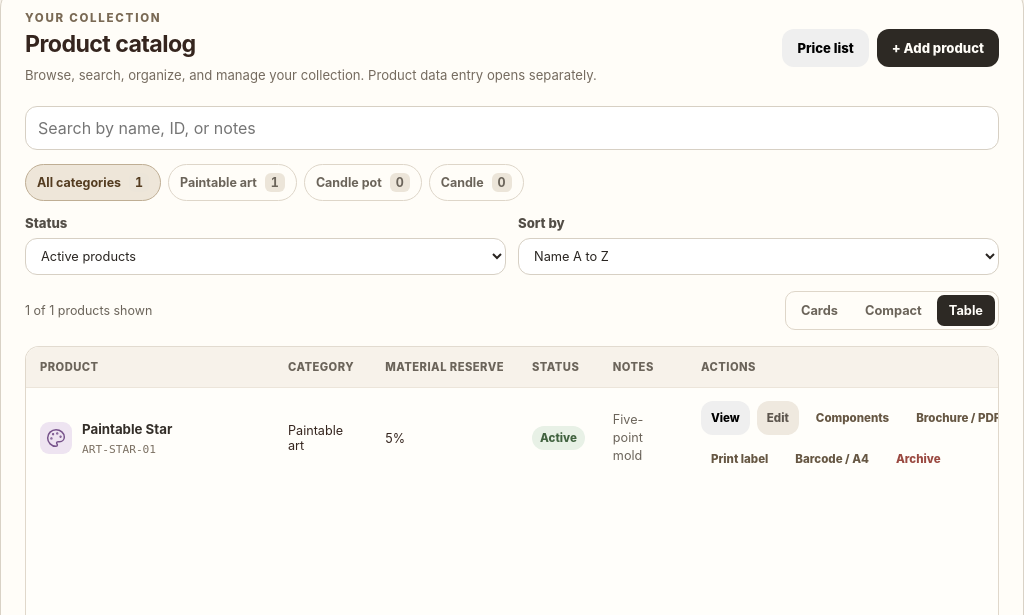
Test: Product catalog / editor separation › opens in Table view by default and keeps Cards and Compact selectable
Expected: the row that starts with "Paintable Star" is shown, [26,387,999,489]
What coordinates should you click on to do the following:
click the button "Cards"
I would click on:
 (819, 310)
Its box is [789,295,850,326].
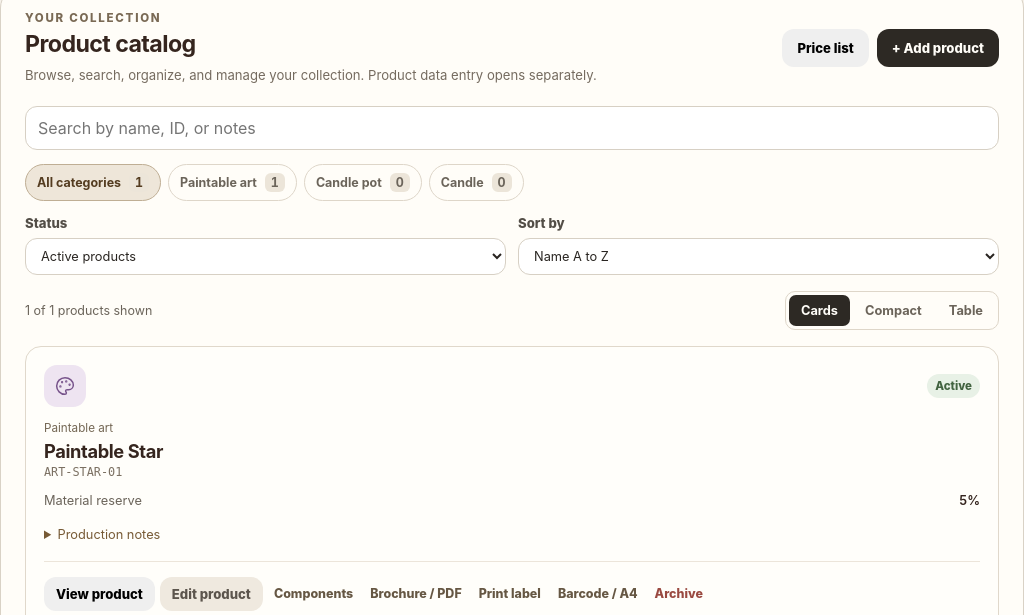
Result: the button "Cards" is pressed at [789,295,850,326]
What coordinates should you click on to do the following:
click the button "Compact"
I would click on:
 (893, 310)
Its box is [853,295,934,326].
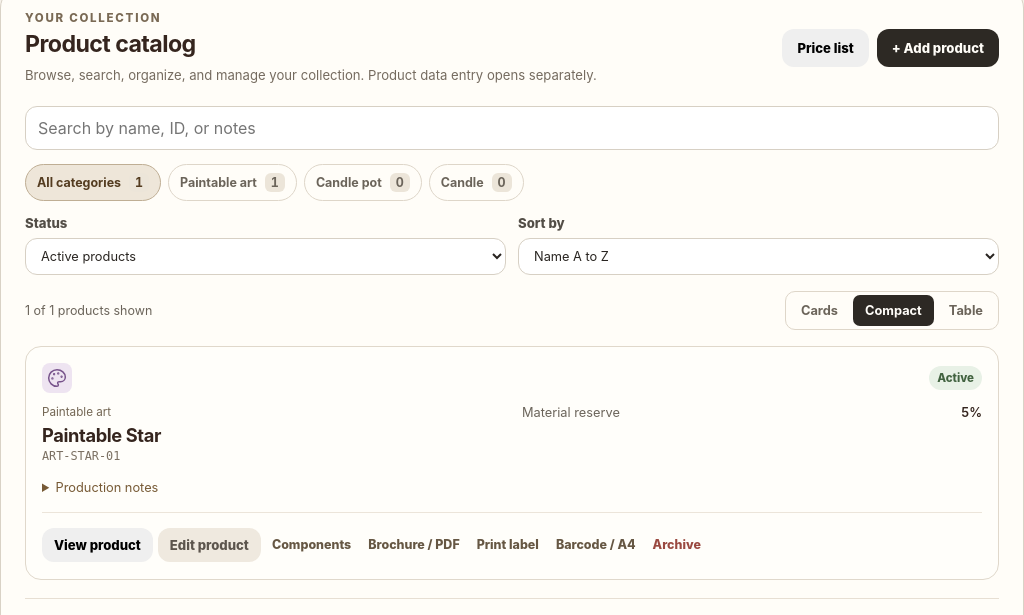
Result: the element with class "is-compact" is shown at [25,346,999,580]
What coordinates should you click on to do the following:
click the button "Table"
I would click on:
 (966, 310)
Its box is [937,295,995,326].
(page scrolled)
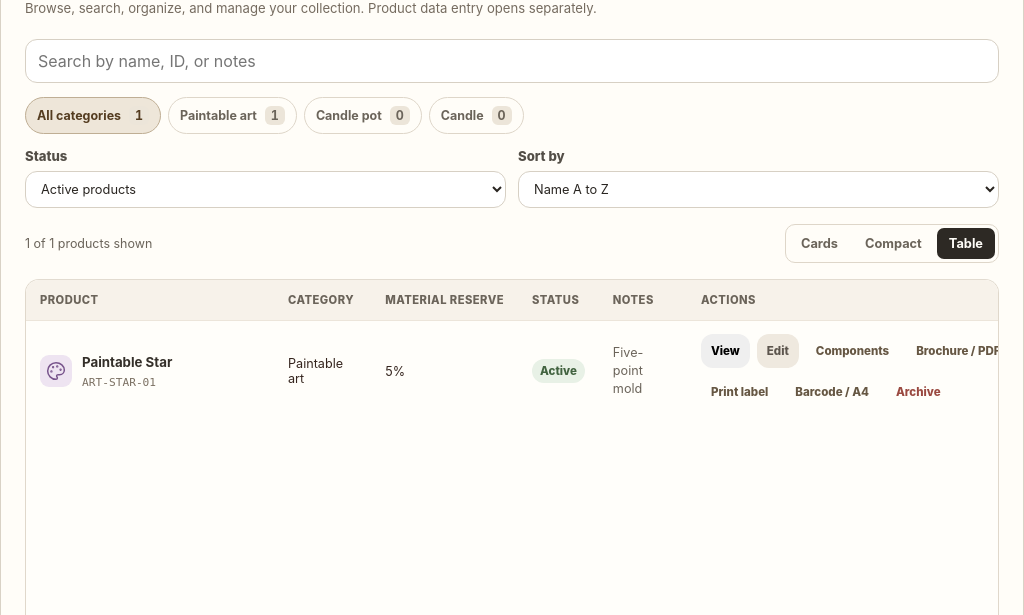
Result: the row that starts with "Paintable Star" is shown at [26,320,999,422]
